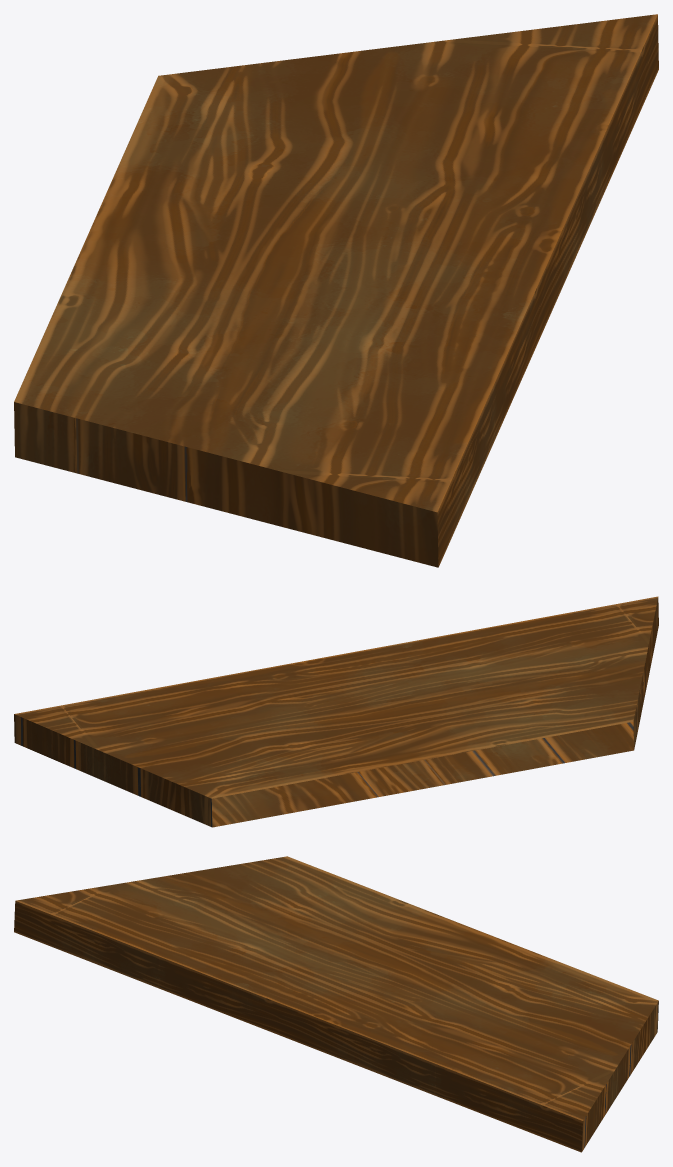
The picture shows the model from 3 angles, top to bottom: view 1: azimuth 30°, elevation 25°; view 2: azimuth 150°, elevation 25°; view 3: azimuth 270°, elevation 25°; orthographic projection. The views are drawn at different scales.
Visible parts, largest first — view 1: Cube.105; view 2: Cube.105; view 3: Cube.105.
Part boxes in pixels (x1=…): Cube.105: x1=14, y1=14, x2=658, y2=567; Cube.105: x1=14, y1=596, x2=658, y2=827; Cube.105: x1=14, y1=856, x2=658, y2=1152.
Bounding box in the file's own units: 660 × 64.57 × 707.
1 material, 1 textured.
